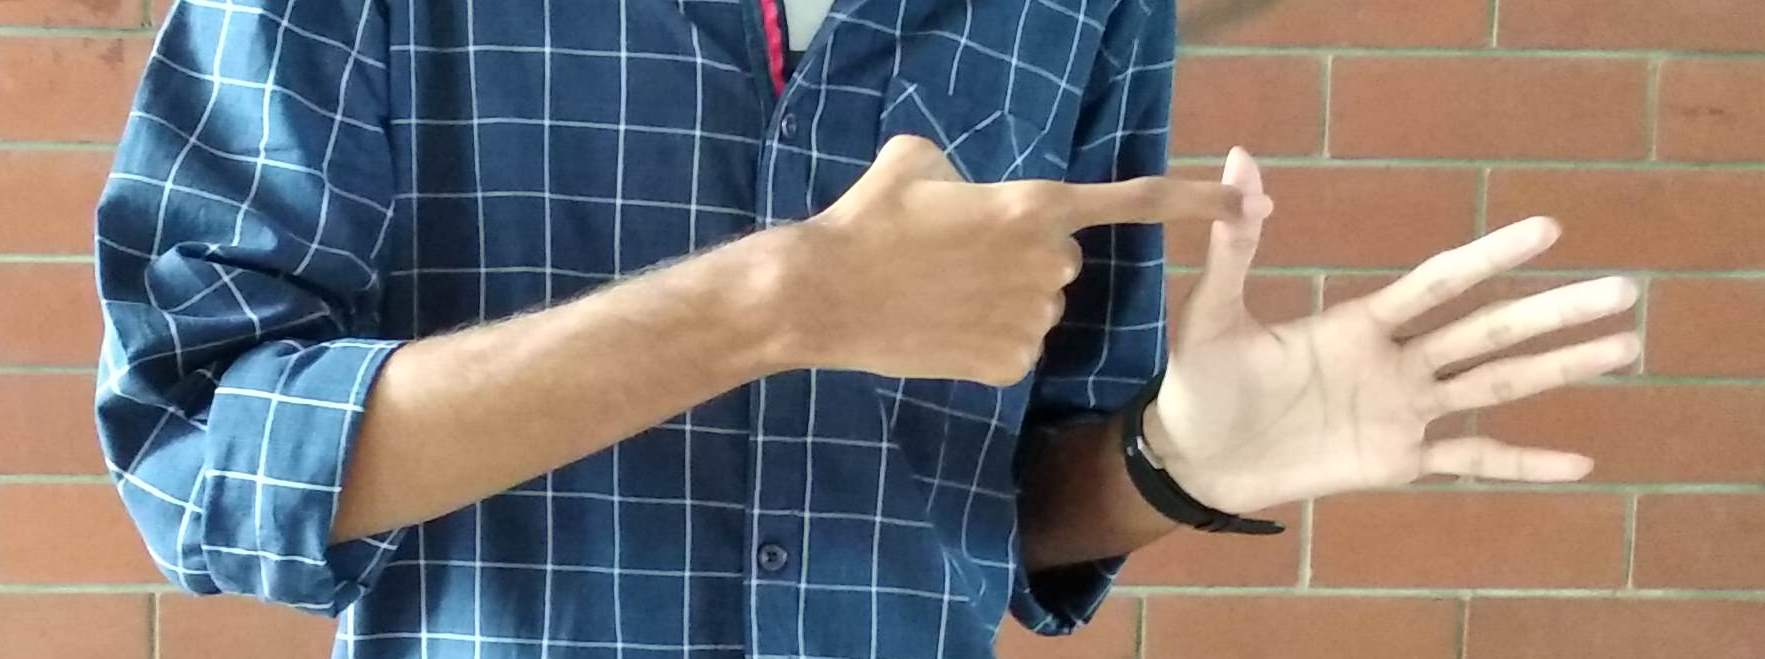a: (813, 130, 1624, 495)
